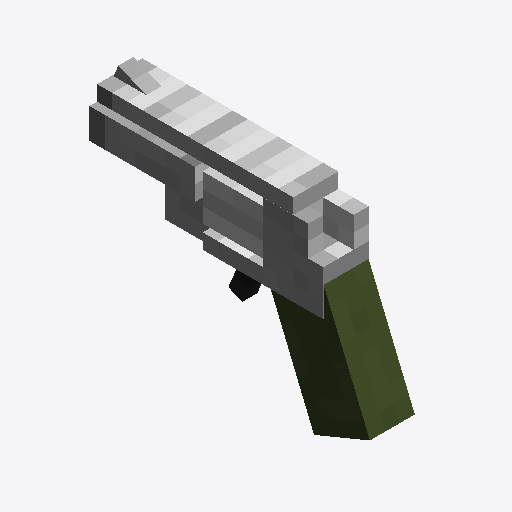
A Minecraft block model of 13 cuboids, rendered isometrically (azimuth 45°, elevation 35.3°) with the resource pack's own textures.
Visible parts, largest first — element 1, element 2, element 4, element 7, element 13, element 6, element 10, element 9, element 8, element 11, element 12.
Boxes of the visible parts, x1=… form: element 1: x1=271, y1=259, x2=414, y2=439; element 2: x1=97, y1=58, x2=337, y2=214; element 4: x1=89, y1=102, x2=209, y2=201; element 7: x1=263, y1=233, x2=368, y2=318; element 13: x1=203, y1=167, x2=262, y2=257; element 6: x1=263, y1=198, x2=337, y2=257; element 10: x1=323, y1=189, x2=368, y2=249; element 9: x1=203, y1=228, x2=262, y2=283; element 8: x1=165, y1=185, x2=208, y2=240; element 11: x1=114, y1=57, x2=160, y2=94; element 12: x1=229, y1=269, x2=260, y2=301.
Size of the model in its own units: 4 by 13.71 by 18.07.